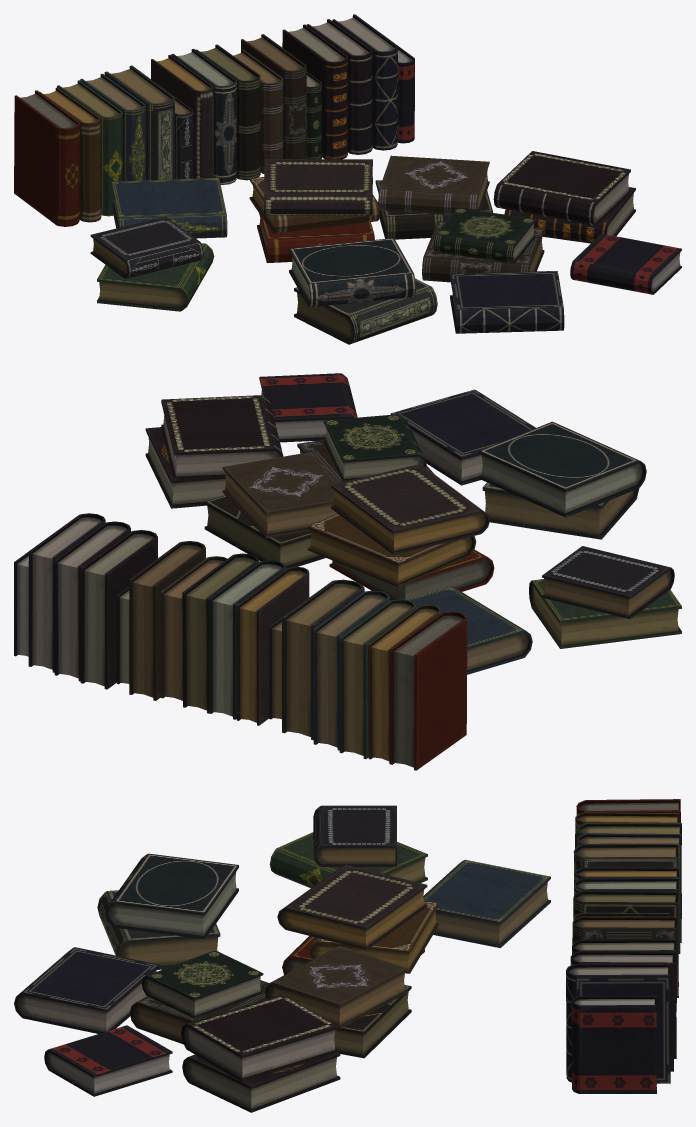
File: books.glb
3 views of the same model, one above another, from view 1: azimuth 30°, elevation 25°; view 2: azimuth 150°, elevation 25°; view 3: azimuth 270°, elevation 25° (orthographic). The views are drawn at different scales.
Parts seen in each view (by area): view 1: book02.001, book15, book09, book16, book08, book11, book05, book17, book07, book06, book14.001, book13 (+20 smaller); view 2: book02.001, book09, book08, book15, book11, book16, book14.001, book07, book08.001, book03, book12.001, book06.001 (+20 smaller); view 3: book15, book09, book17.001, book08, book16, book05, book11, book17, book16.001, book13, book07, book14 (+17 smaller).
Part boxes in pixels (box(x1,y1,x2,y2)): book02.001: box(14, 90, 80, 226); book15: box(493, 151, 630, 226); book09: box(289, 238, 415, 307); book16: box(450, 271, 564, 333); book08: box(264, 159, 372, 215); book11: box(378, 155, 489, 214); book05: box(111, 177, 227, 238); book17: box(570, 233, 681, 294); book07: box(90, 216, 203, 278); book06: box(294, 278, 437, 344); book14.001: box(282, 24, 347, 159); book13: box(433, 208, 535, 263); book02.001: box(390, 611, 467, 770); book09: box(479, 421, 646, 517); book08: box(331, 464, 489, 554); book15: box(161, 395, 283, 480); book11: box(222, 452, 340, 538); book16: box(390, 389, 535, 485); book14.001: box(80, 530, 157, 689); book07: box(542, 546, 674, 618); book08.001: box(236, 566, 309, 725); book03: box(307, 513, 476, 587); book12.001: box(129, 541, 205, 700); book06.001: box(282, 579, 364, 740); book15: box(181, 994, 338, 1081); book09: box(105, 853, 238, 938); book17.001: box(571, 996, 656, 1093); book08: box(277, 864, 427, 949); book16: box(14, 947, 159, 1033); book05: box(423, 859, 550, 947); book11: box(264, 946, 407, 1028); book17: box(44, 1025, 172, 1096); book16.001: box(566, 963, 670, 1083); book13: box(141, 950, 263, 1018); book07: box(313, 805, 396, 866); book14: box(182, 1052, 340, 1112).
Bounding box in the file's own units: 4.24 × 0.8468 × 4.48.
1 material, 1 textured.
